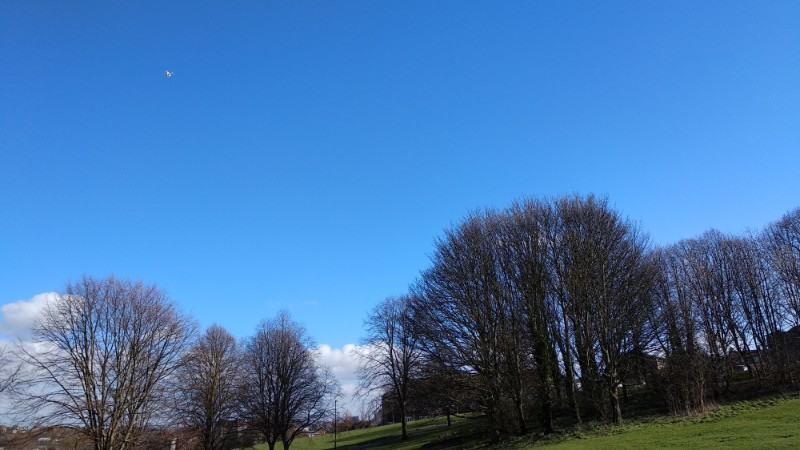drone: (164, 67, 175, 80)
